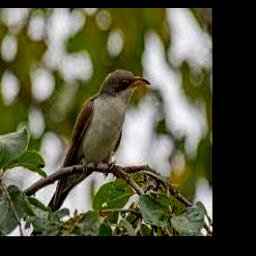Cuckoo: (30, 69, 151, 236)
